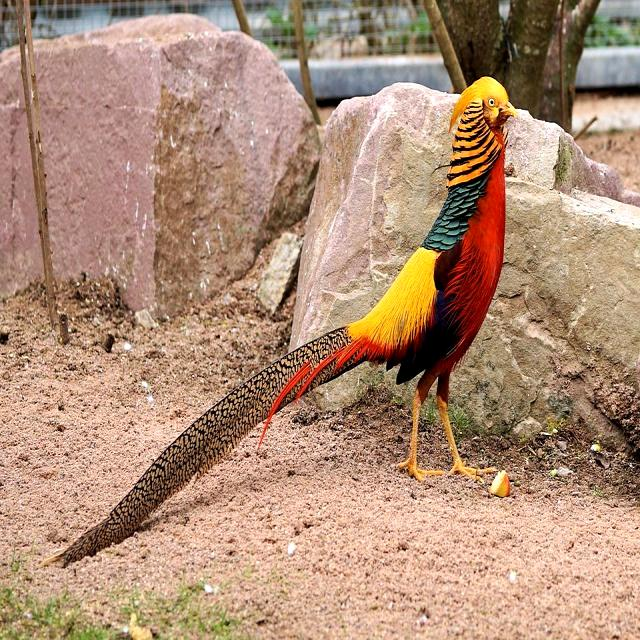Chrysolophus pictus feather: (59, 326, 365, 564)
